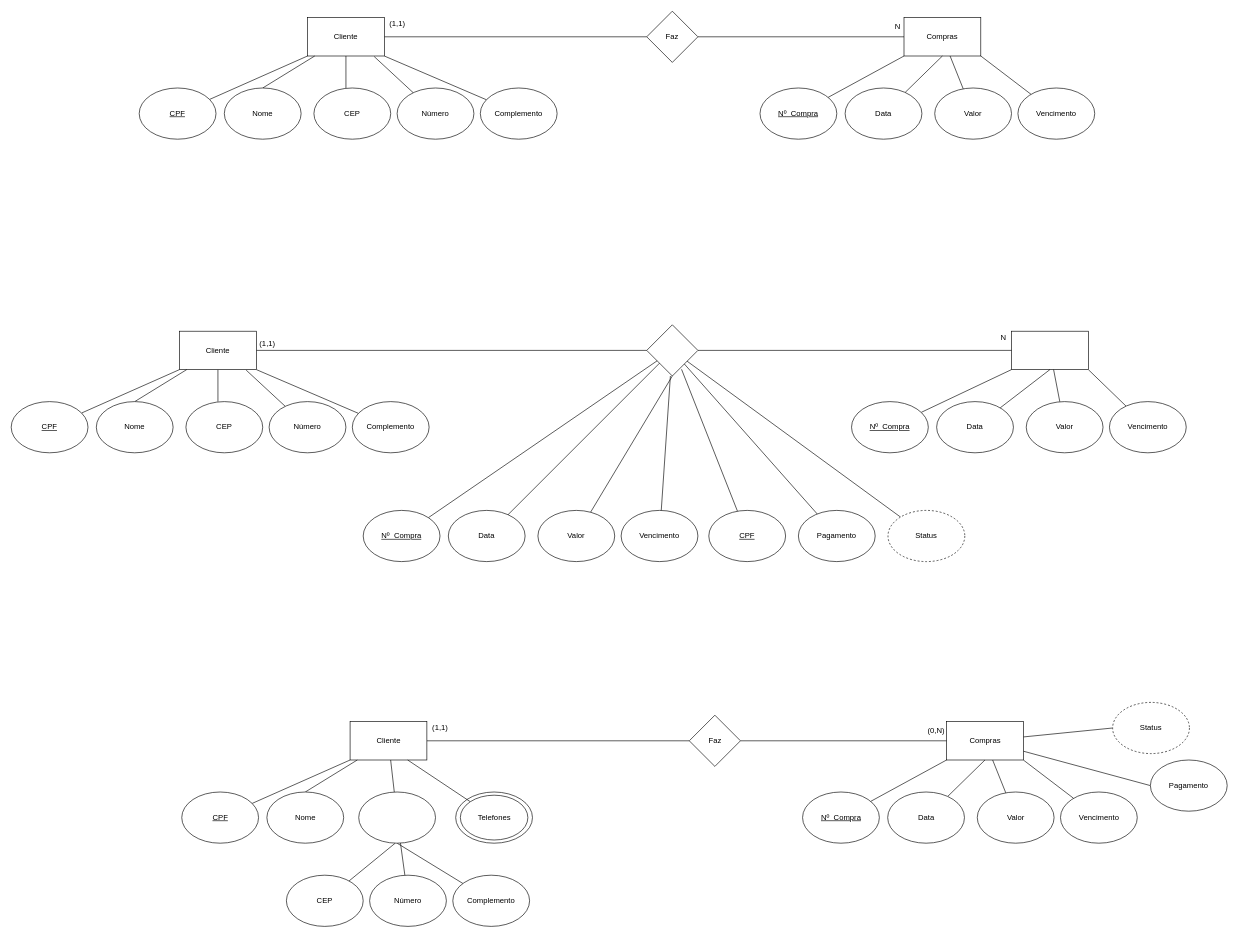
This 1238x938 diagram has some shape labels left out. The box of each missing label's shape, as (x1, y1, x2, y2) in pixels:
Compra: (646, 324, 698, 376)
Endereço: (358, 791, 436, 843)
Produto: (1011, 331, 1088, 370)
